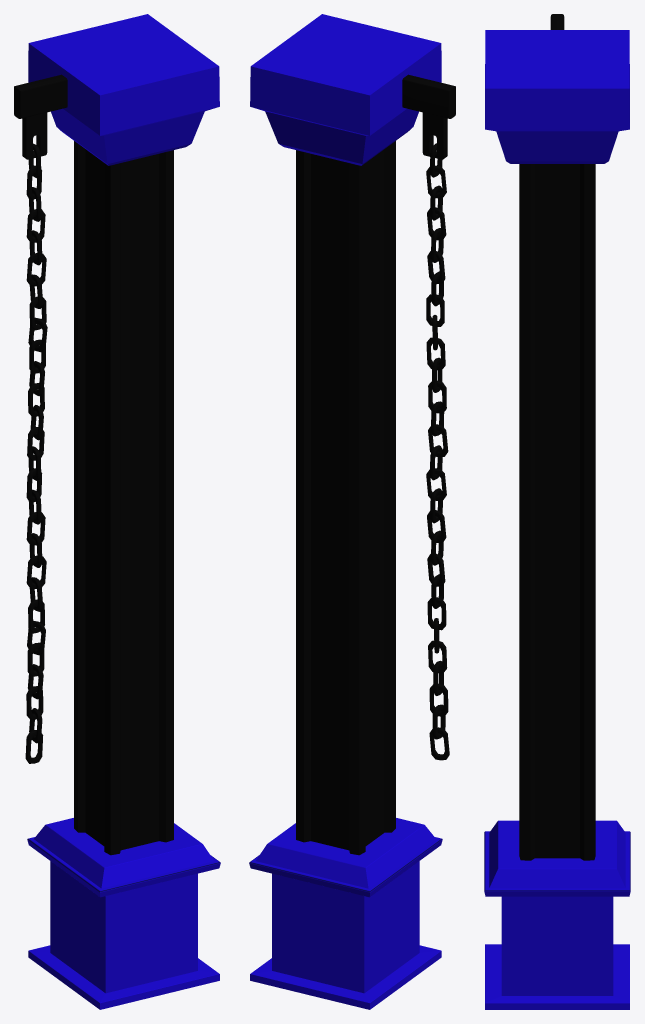
Rendered from ART1_pillar_withchain.fbx.
3 views of the same model, side by side, from view 1: azimuth 30°, elevation 25°; view 2: azimuth 150°, elevation 25°; view 3: azimuth 270°, elevation 25° (orthographic).
Parts seen in each view (by area): view 1: polySurface35; view 2: polySurface35; view 3: polySurface35.
Part boxes in pixels (<box>): polySurface35: <box>14,14,220,1009</box>; polySurface35: <box>249,14,455,1009</box>; polySurface35: <box>484,14,630,1009</box>.
Bounding box in the file's own units: 60.89 × 317 × 45.6.
